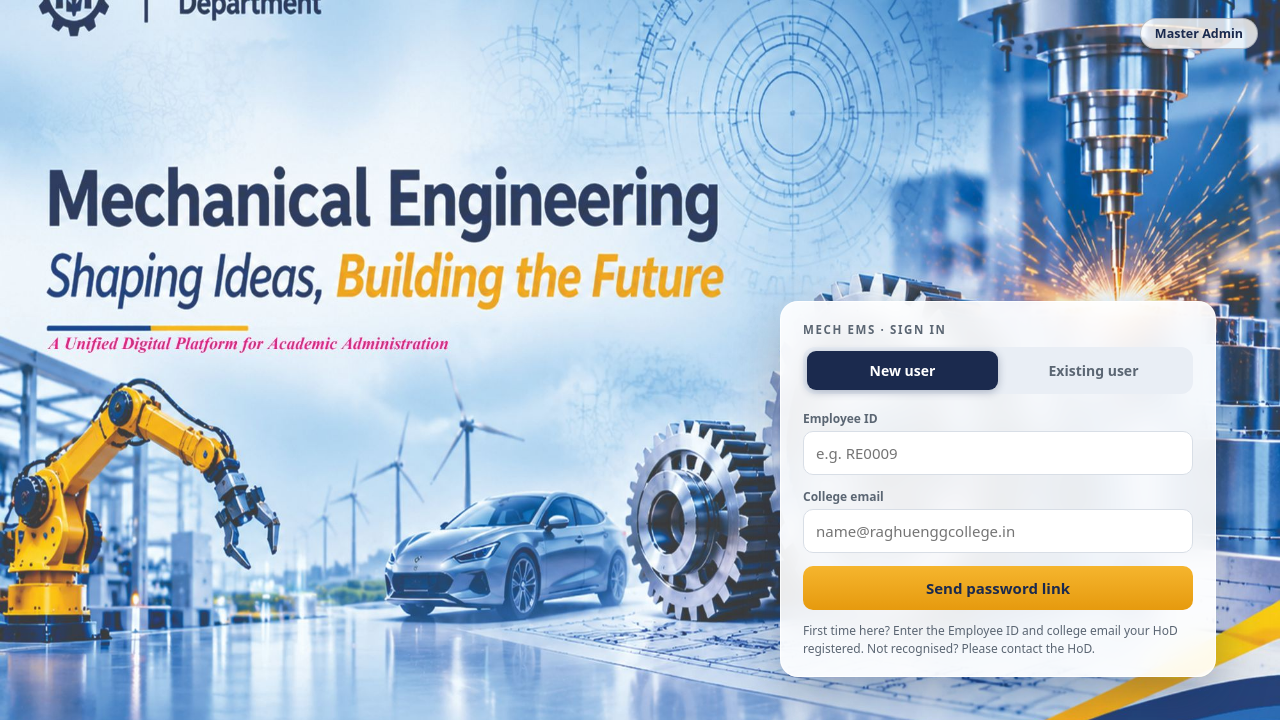
the Master Admin link opens the mobile number and PIN sign-in
Click the button "Master Admin" at coordinates (1199, 34), box [1140,18,1258,49]
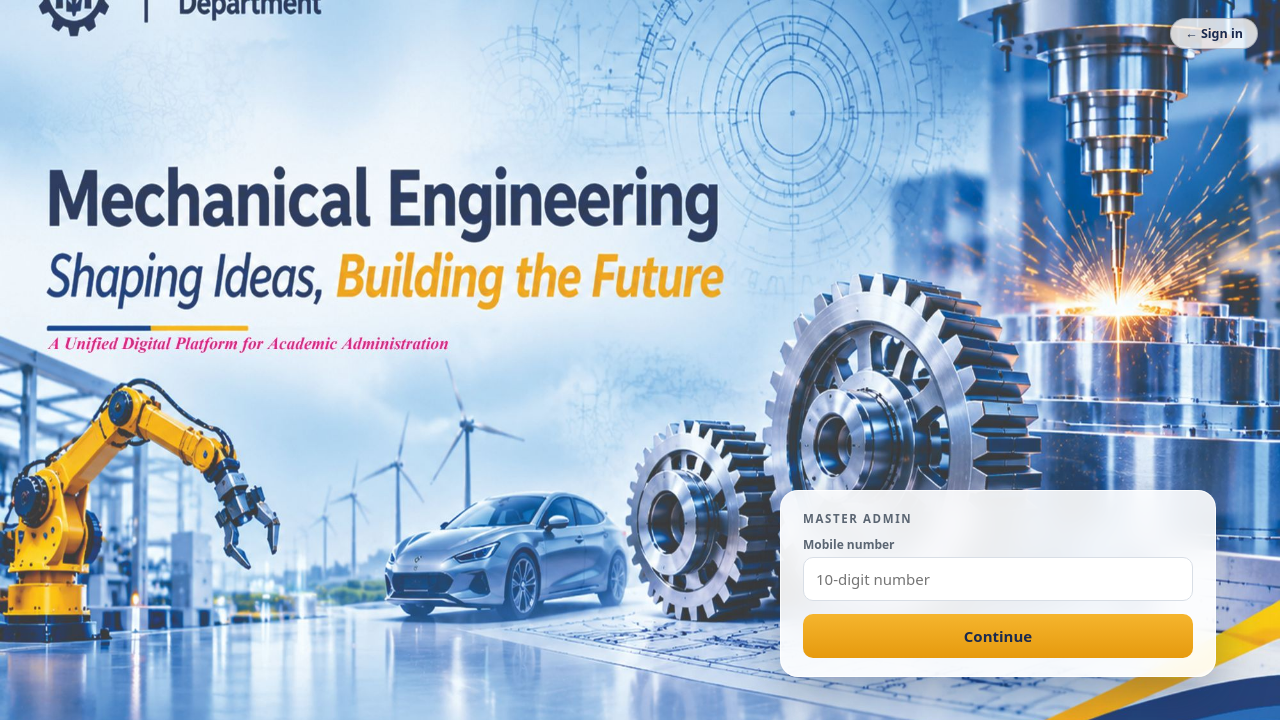
Result: the field labelled "Mobile number" is shown at [803,557,1193,601]
Result: the button "← Sign in" is shown at [1170,18,1258,49]
